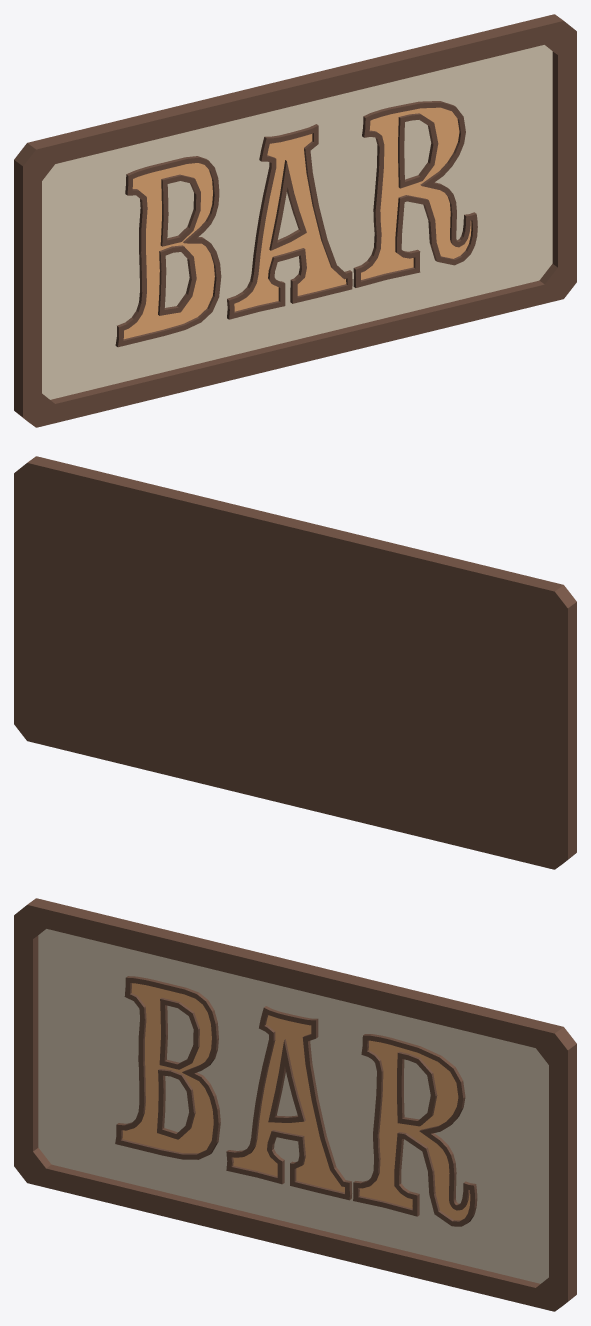
The model's file is SM_BuildingsDecor_46.fbx.
3 views of the same model, one above another, from view 1: azimuth 30°, elevation 25°; view 2: azimuth 150°, elevation 25°; view 3: azimuth 330°, elevation 25° (orthographic).
Parts seen in each view (by area): view 1: SM_BuildingsDecor_46; view 2: SM_BuildingsDecor_46; view 3: SM_BuildingsDecor_46.
Part boxes in pixels (left/top/right/bottom): SM_BuildingsDecor_46: left=14, top=14, right=576, bottom=427; SM_BuildingsDecor_46: left=14, top=456, right=576, bottom=869; SM_BuildingsDecor_46: left=14, top=898, right=576, bottom=1311.
Size of the model in its own units: 1.16 by 0.5561 by 0.0332.
